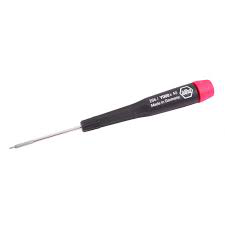Screwdriver: (9, 69, 222, 158)
